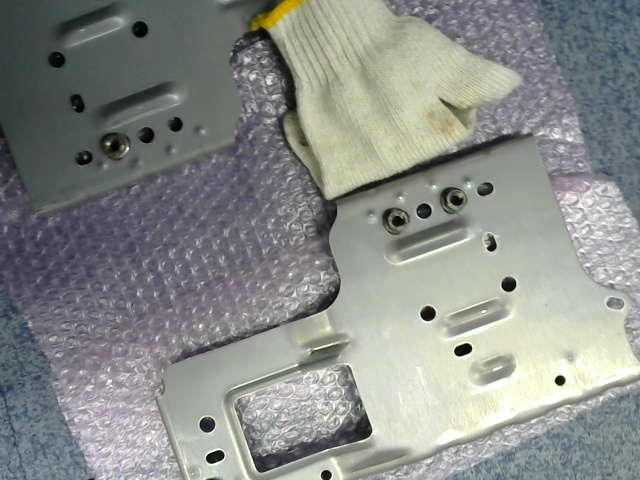dog: (100, 132, 131, 161), (382, 207, 411, 237), (441, 186, 469, 217)
